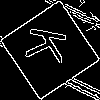K: (25, 25, 77, 67)
